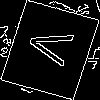V: (25, 24, 84, 70)
